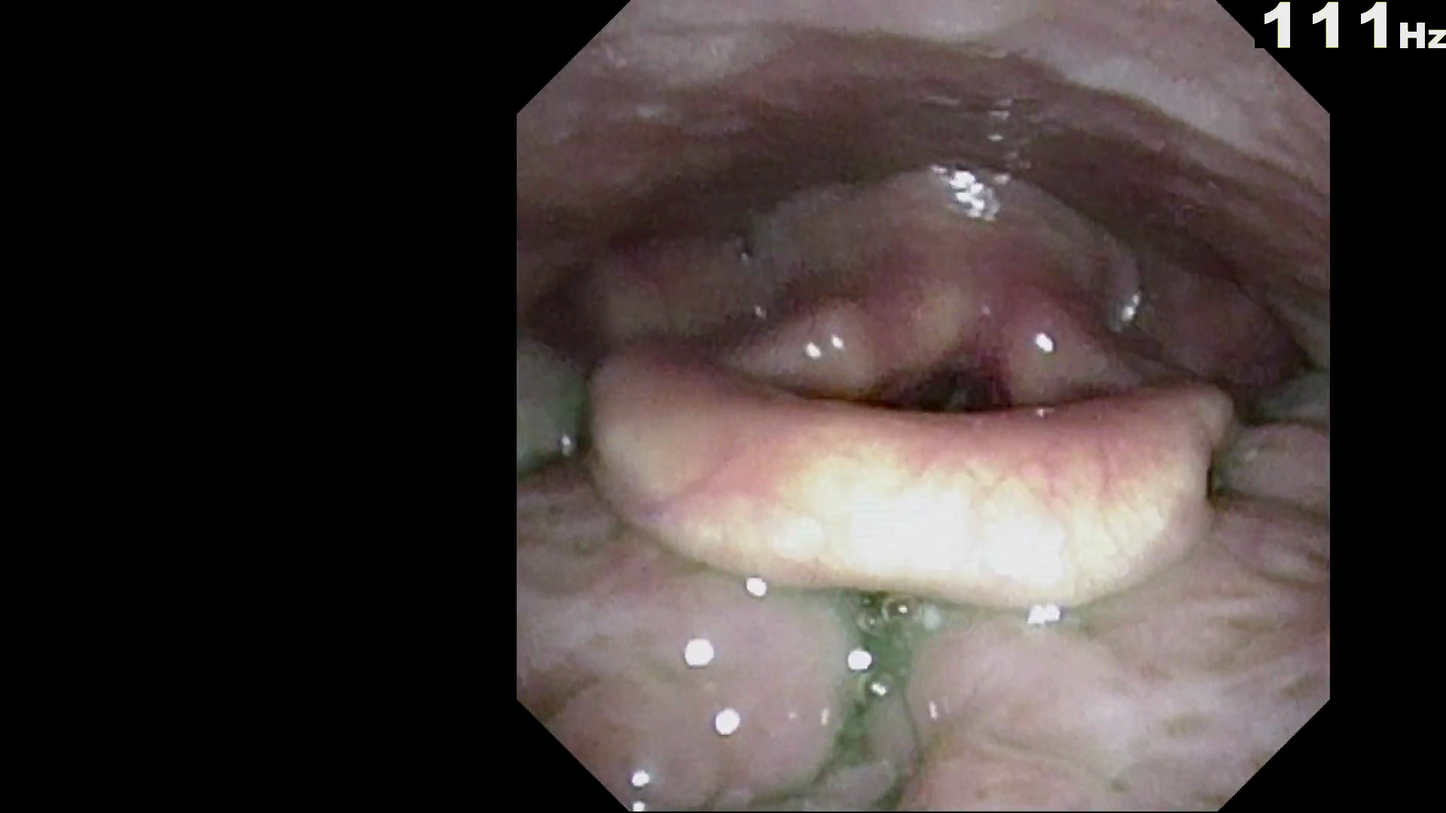epiglottis: (557, 336, 1279, 596)
